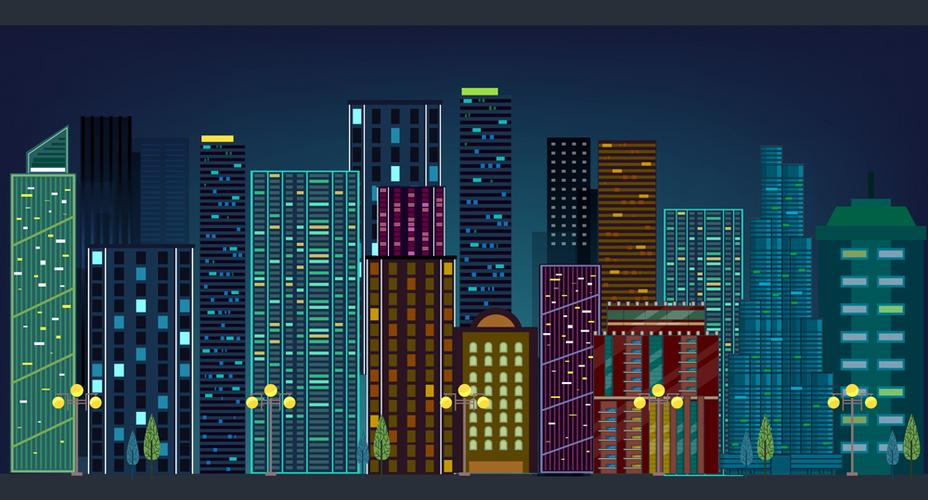buildings: (231, 141, 382, 461), (334, 131, 466, 472), (81, 169, 222, 471), (712, 147, 828, 463), (524, 146, 617, 472), (586, 129, 686, 412), (446, 112, 524, 448), (185, 141, 264, 466)
